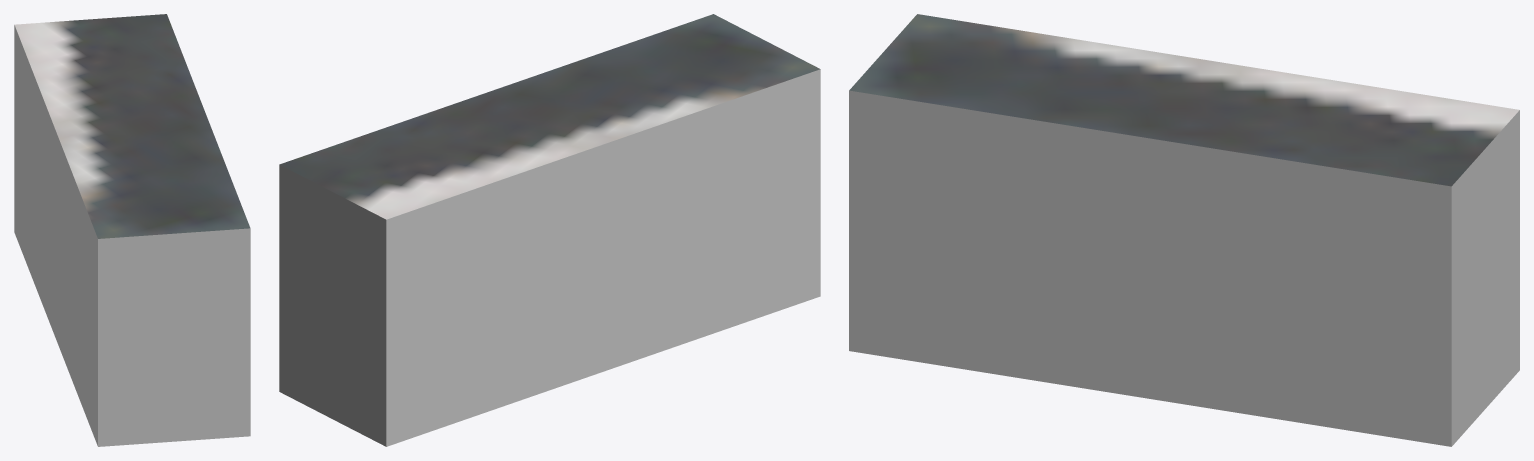
Rendered from DEBW_0010007TxfR.gltf.
3 renders of one model, left to right at view 1: azimuth 30°, elevation 25°; view 2: azimuth 150°, elevation 25°; view 3: azimuth 270°, elevation 25°, orthographic. The views are drawn at different scales.
Parts seen in each view (by area): view 1: Z_UP; view 2: Z_UP; view 3: Z_UP.
Part boxes in pixels (bbox=[...]): Z_UP: bbox=[14, 14, 250, 446]; Z_UP: bbox=[279, 14, 820, 446]; Z_UP: bbox=[849, 14, 1519, 446].
Size of the model in its own units: 4.01 by 2.82 by 6.59.
2 materials, 1 textured.
